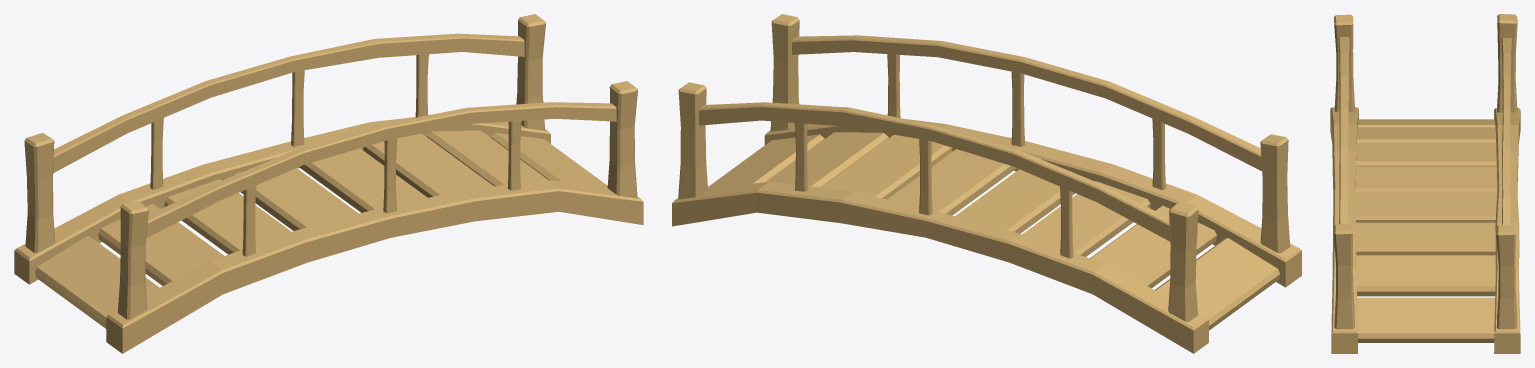
Rendered from bridge.02.glb.
3 renders of one model, left to right at view 1: azimuth 30°, elevation 25°; view 2: azimuth 150°, elevation 25°; view 3: azimuth 270°, elevation 25°, orthographic. The views are drawn at different scales.
Visible parts, largest first — view 1: Cube.229; view 2: Cube.229; view 3: Cube.229.
Part boxes in pixels (bbox=[...]): Cube.229: bbox=[14, 14, 643, 353]; Cube.229: bbox=[672, 14, 1301, 353]; Cube.229: bbox=[1330, 14, 1520, 353].
Bounding box in the file's own units: 2.33 × 0.6699 × 0.8372.
1 material, 1 textured.
